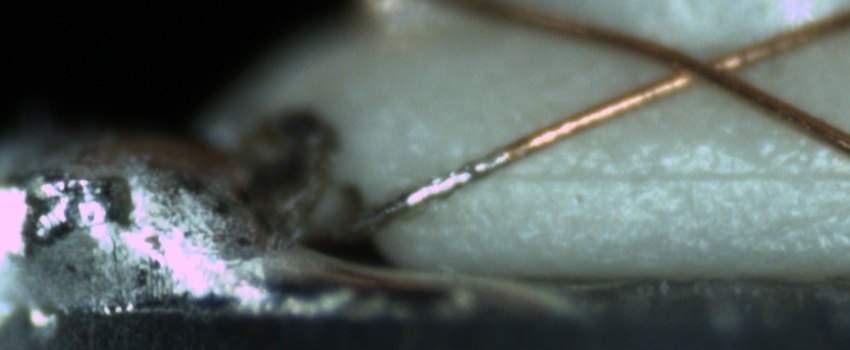CL: (651, 39, 756, 97)
DL: (500, 148, 849, 207)
TS: (318, 150, 512, 247)
